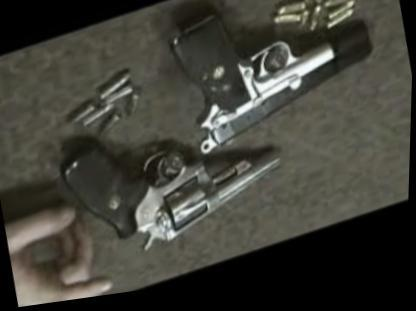pistol: (55, 87, 299, 281), (161, 0, 387, 173)
